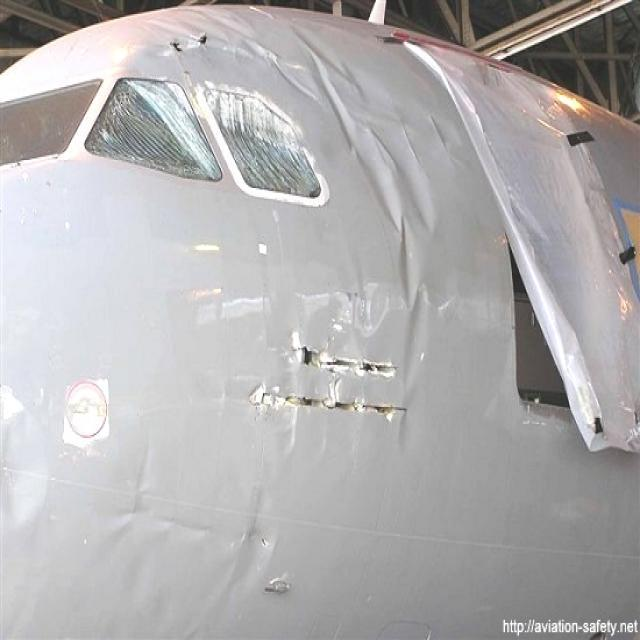crack: (248, 327, 412, 430)
